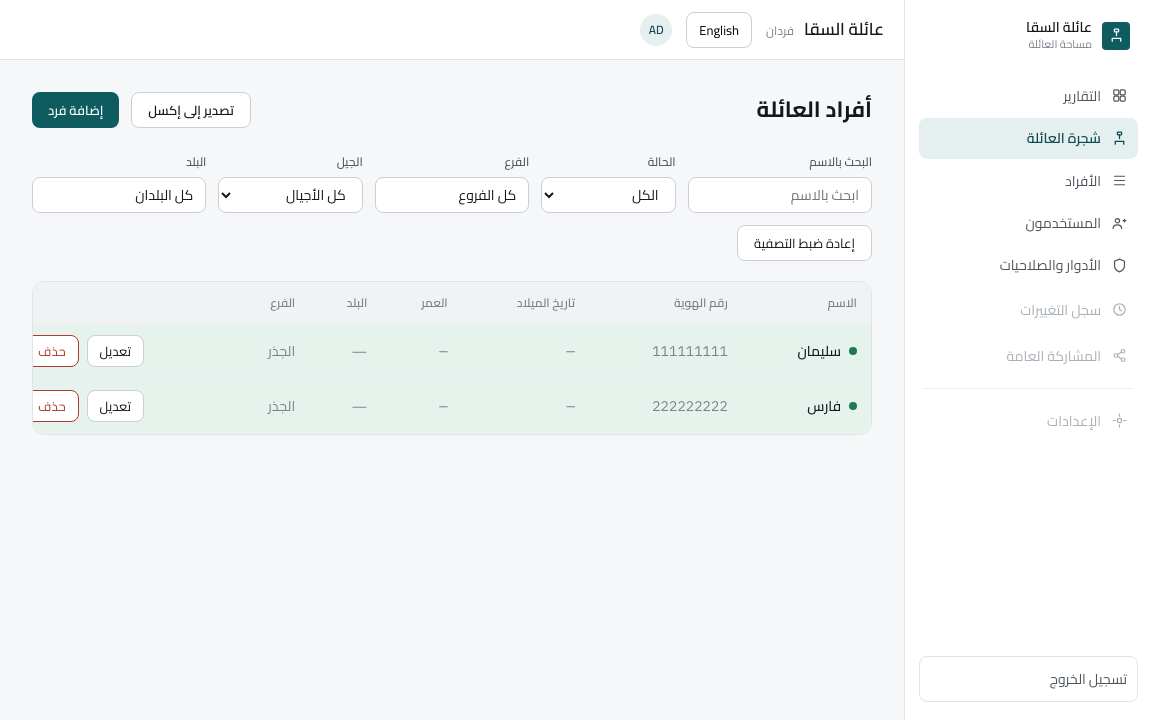
Test: MembersPage › reloads the form when Edit is clicked on a second member
Expected: the text "سليمان" is shown, [797, 340, 841, 363]
Click the button "تعديل" in the row of "سليمان" at (115, 351), box [87, 335, 144, 367]
(page scrolled)
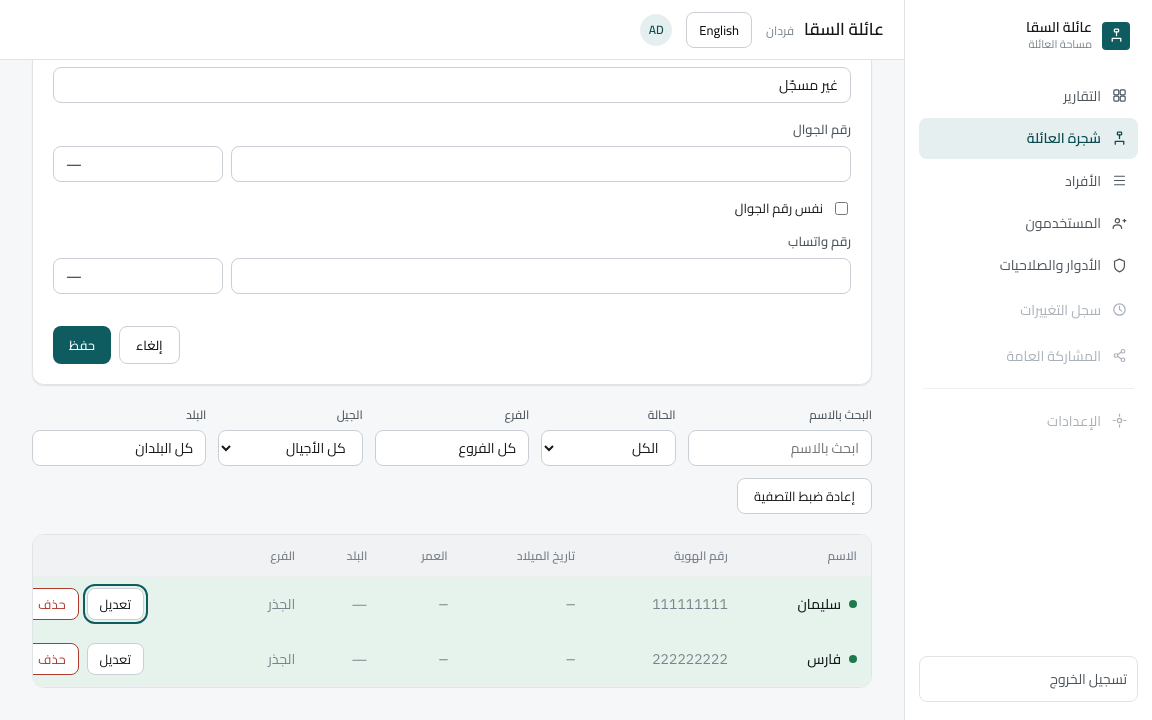
Click the button "تعديل" in the row of "فارس" at (115, 659), box [87, 643, 144, 675]
(page scrolled)
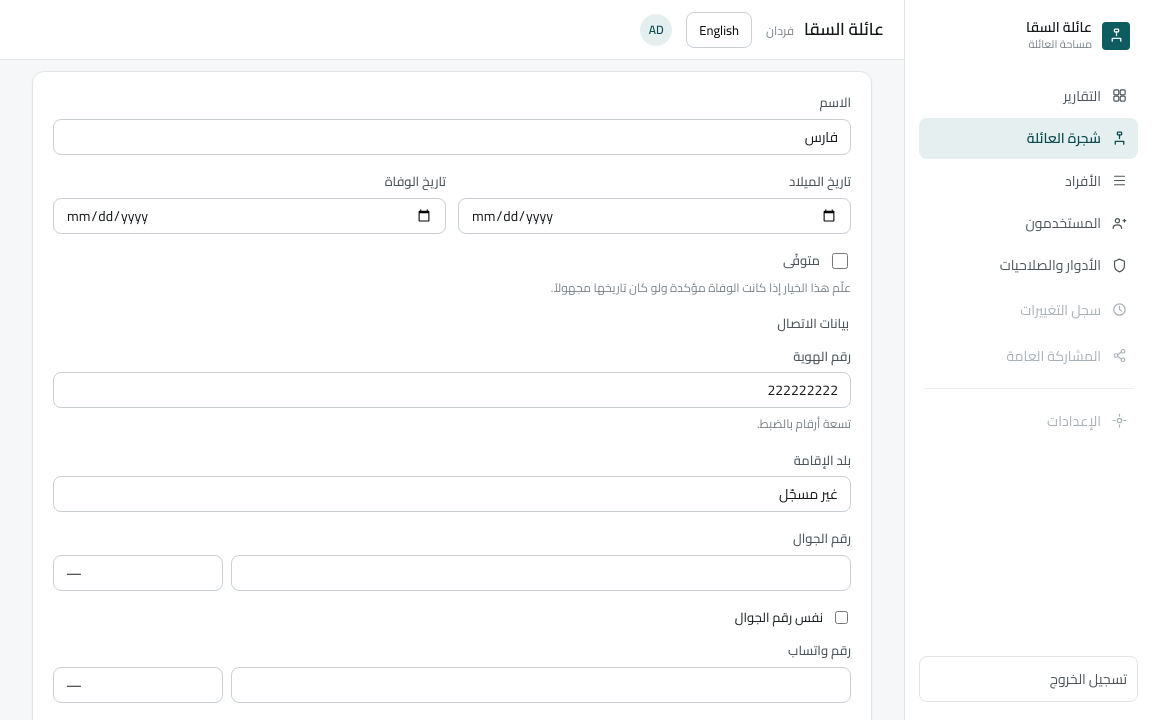
Result: the field labelled "الاسم" holds "فارس" at [53, 119, 851, 155]
Result: the field labelled "رقم الهوية" holds "222222222" at [53, 372, 851, 408]
